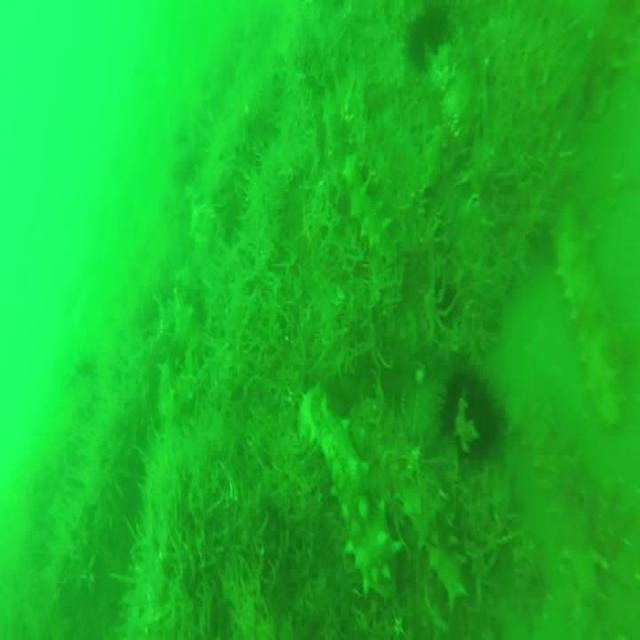echinus: (437, 368, 503, 454), (399, 0, 454, 66)
holothurian: (288, 386, 399, 598), (515, 412, 608, 607), (548, 236, 626, 425), (397, 449, 466, 621), (338, 161, 394, 261)
